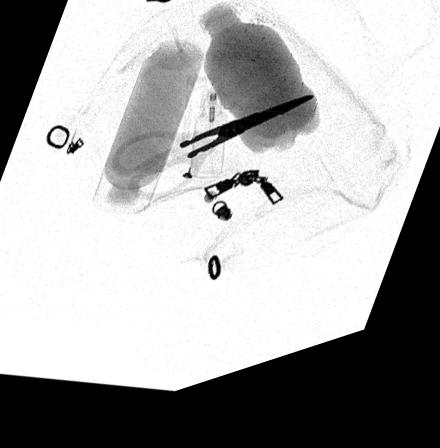Scissors: (110, 110, 319, 211)
